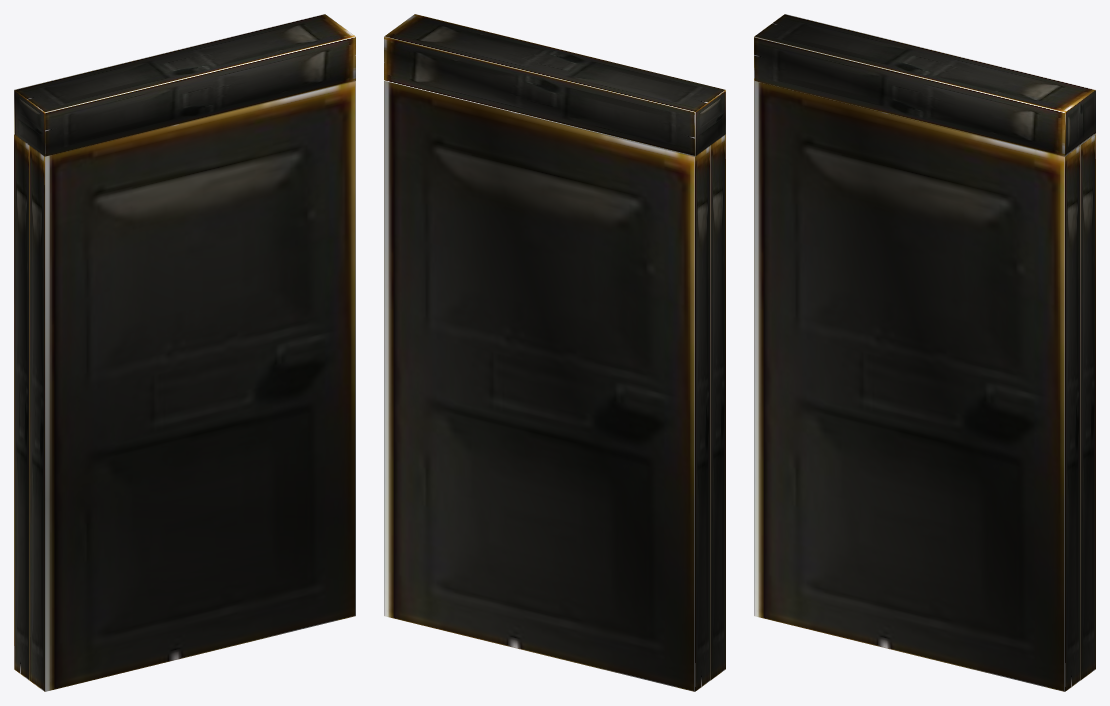
Rendered from puerta.obj.
3 views of the same model, side by side, from view 1: azimuth 30°, elevation 25°; view 2: azimuth 150°, elevation 25°; view 3: azimuth 330°, elevation 25° (orthographic).
Visible parts, largest first — view 1: SlidingDoor001; view 2: SlidingDoor001; view 3: SlidingDoor001.
Boxes of the visible parts, x1,y1,x2,y2 form: SlidingDoor001: [14, 14, 355, 691]; SlidingDoor001: [384, 14, 725, 691]; SlidingDoor001: [754, 14, 1095, 691].
Size of the model in its own units: 15.07 by 26.85 by 2.59.
